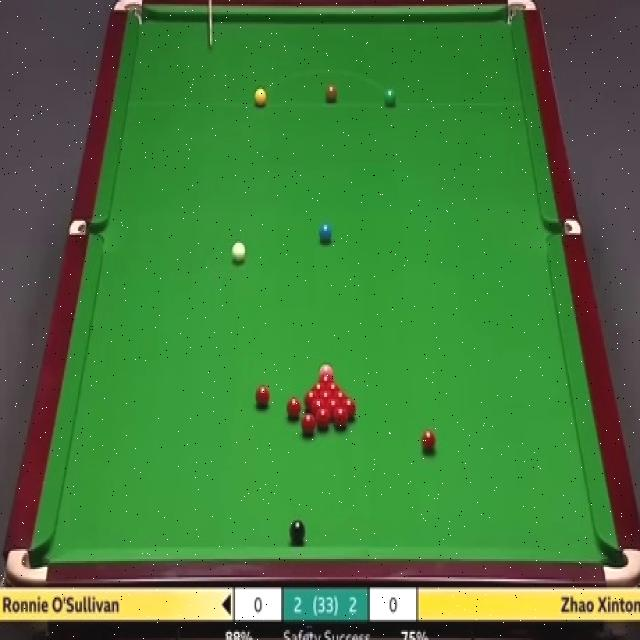black-ball: (289, 518, 305, 541)
blue-ball: (318, 224, 332, 241)
brown-ball: (325, 85, 337, 104)
green-ball: (382, 85, 398, 108)
pink-ball: (319, 364, 334, 379)
red-ball: (331, 408, 350, 430), (420, 428, 437, 452), (318, 406, 333, 428), (302, 411, 315, 436), (339, 398, 355, 418), (255, 386, 270, 406), (286, 398, 301, 418), (327, 399, 341, 420), (306, 390, 317, 402), (320, 391, 331, 403), (320, 376, 330, 388)
white-ball: (231, 240, 248, 263)
yellow-ball: (254, 87, 267, 108)
